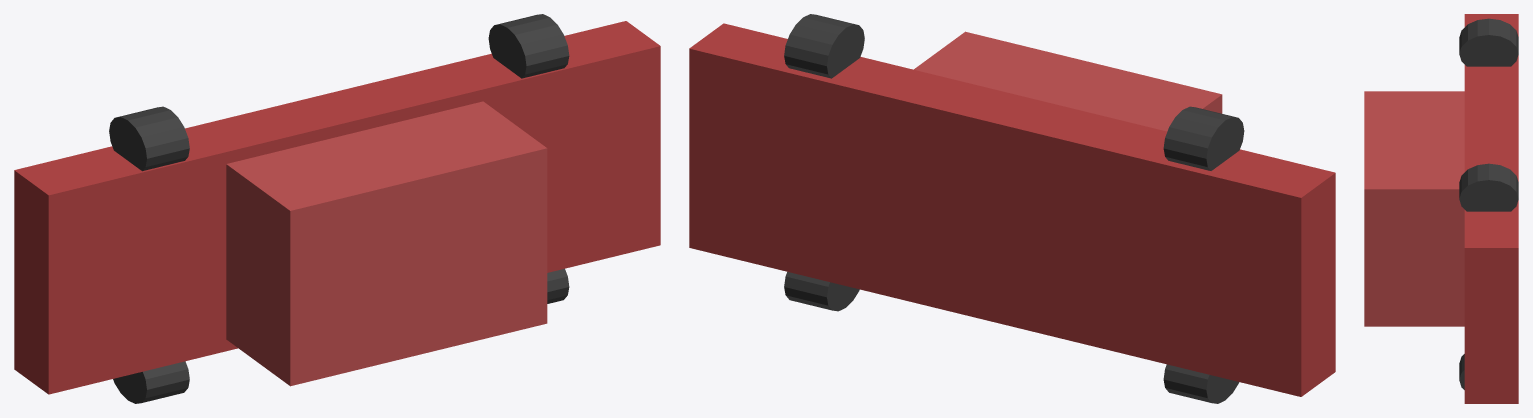
The model's file is curated_sports_car.glb.
3 views of the same model, side by side, from view 1: azimuth 30°, elevation 25°; view 2: azimuth 150°, elevation 25°; view 3: azimuth 270°, elevation 25° (orthographic). The views are drawn at different scales.
Parts seen in each view (by area): view 1: geometry_0; view 2: geometry_0; view 3: geometry_0.
Part boxes in pixels (left/top/right/bottom): geometry_0: left=14, top=14, right=660, bottom=403; geometry_0: left=689, top=14, right=1335, bottom=403; geometry_0: left=1364, top=14, right=1518, bottom=403.
Size of the model in its own units: 4.3 by 1.88 by 1.2.
